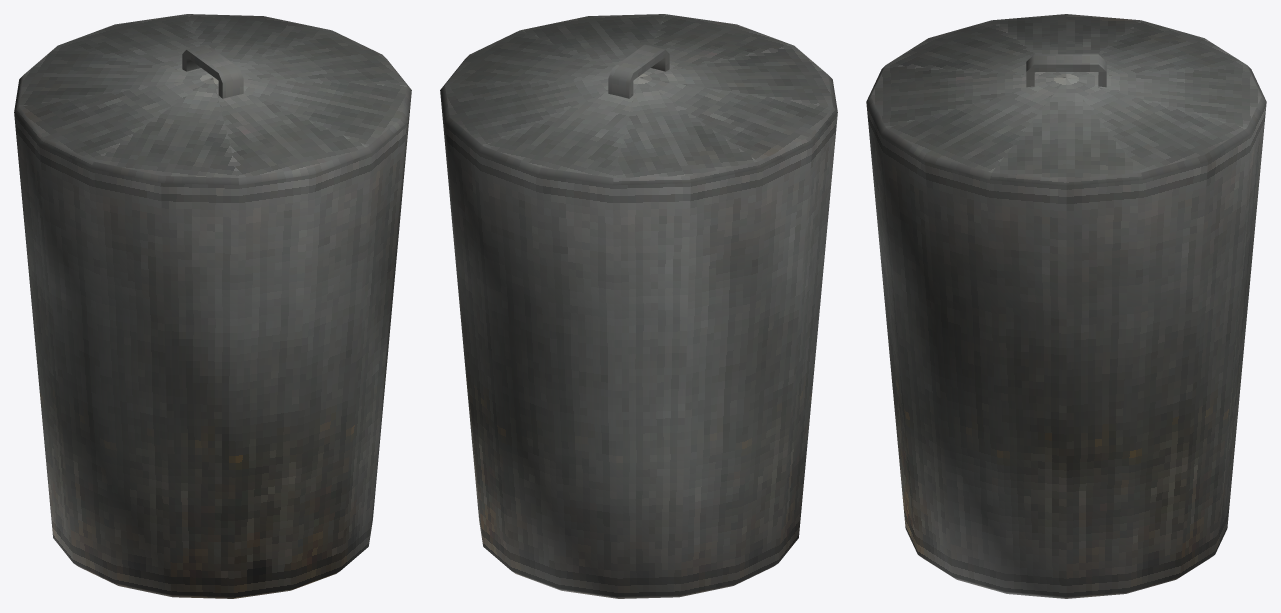
File: trashcan_bake.glb
The picture shows the model from 3 angles, left to right: view 1: azimuth 30°, elevation 25°; view 2: azimuth 150°, elevation 25°; view 3: azimuth 270°, elevation 25°; orthographic projection.
Visible parts, largest first — view 1: Cylinder; view 2: Cylinder; view 3: Cylinder.
Boxes of the visible parts, left/top/right/bottom form: Cylinder: left=14, top=14, right=411, bottom=598; Cylinder: left=440, top=14, right=837, bottom=598; Cylinder: left=866, top=14, right=1266, bottom=598.
Bounding box in the file's own units: 0.4989 × 0.6516 × 0.4989.
Materials: 1 (1 with a texture image).
